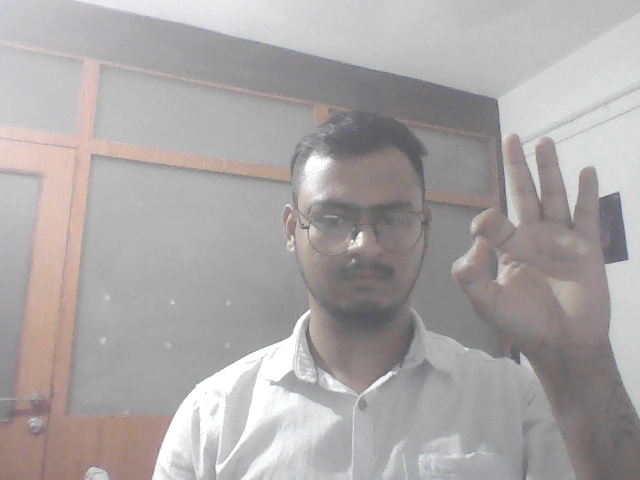OK: (449, 129, 628, 363)
